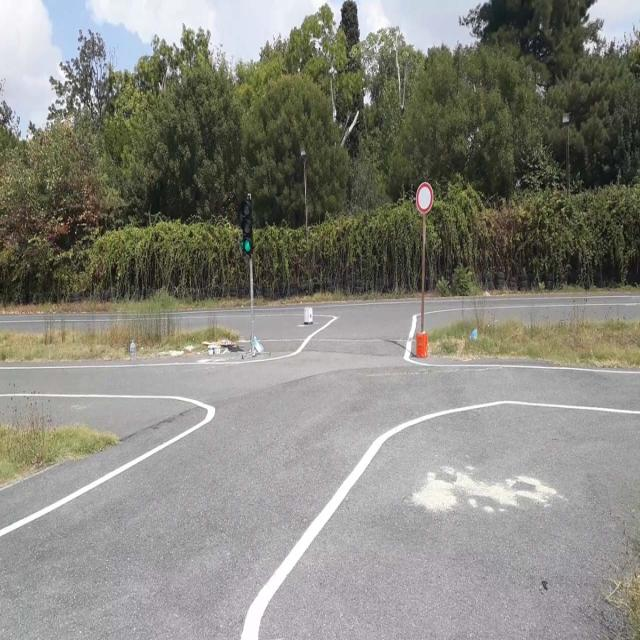yesil: (241, 199, 252, 253)
